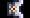breastplate: (6, 0, 24, 18)
